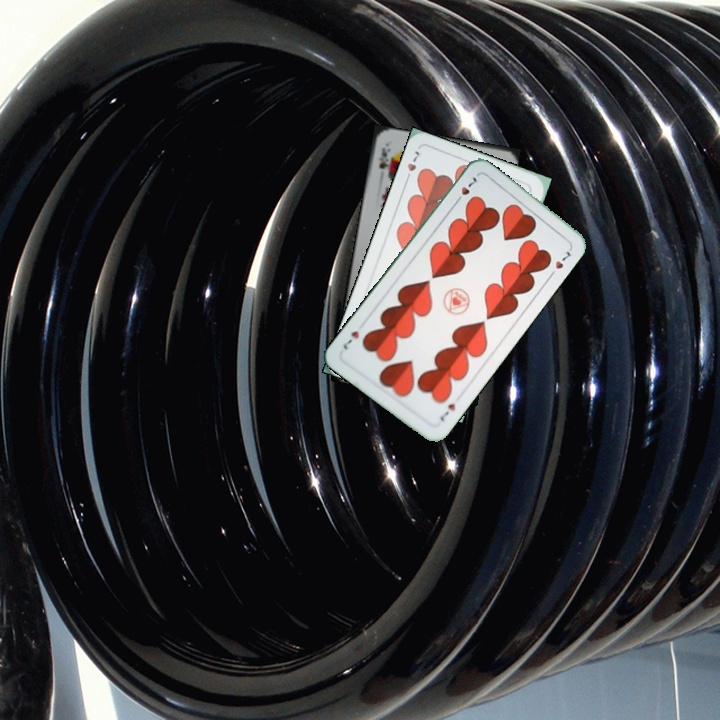H7: (451, 172, 480, 206), (401, 146, 423, 184), (436, 399, 459, 424)
SK: (375, 144, 393, 172)
